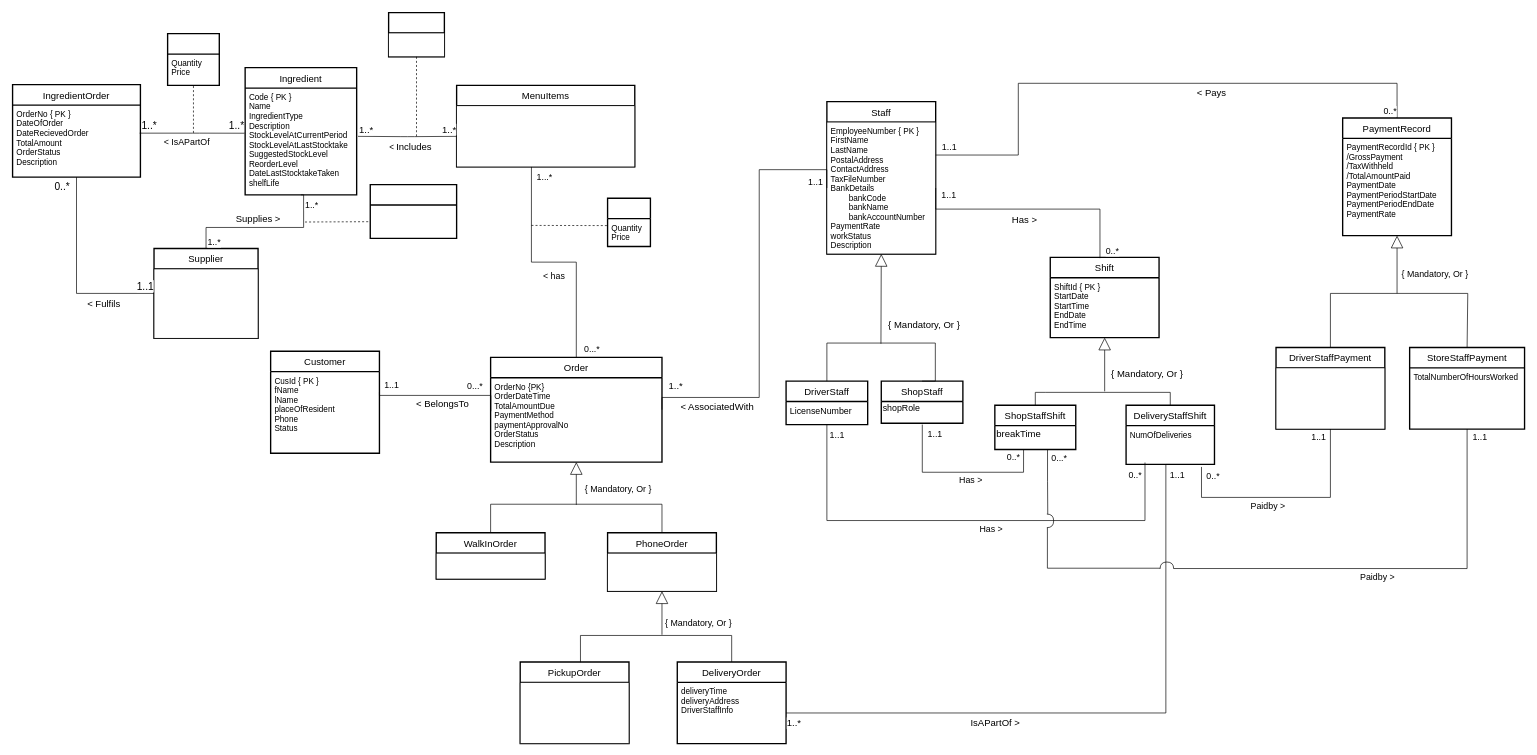
The diagram is 1537 pixels wide and 755 high, and some of its shapes have lost their labels. The shapes that lost their labels are listed below. From the top down, each one's centre as x and y in pixels, then its label:
At [416,44]: "Quantity".
At [545,136]: "ItemCode { PK } Name PizzaSize CurrentSellingPrice Description".
At [413,211]: "PriceOfIngredients QuantityOfIngredients".
At [205,303]: "SupplierNo { PK } Name Address [1..3] Phone Email ContactPerson".
At [1330,398]: "TotalNumberOfDeliveries".
At [490,565]: "TimeWalkedIn".
At [661,571]: "TimeAnsweredCall TimeTerminatedCall".
At [574,713]: "pickUpTime".
